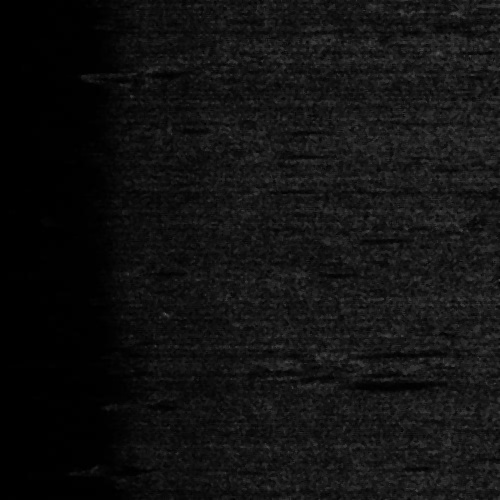object: (287, 378, 370, 387), (297, 347, 370, 354)
shadow: (329, 378, 440, 387), (334, 347, 418, 354)
